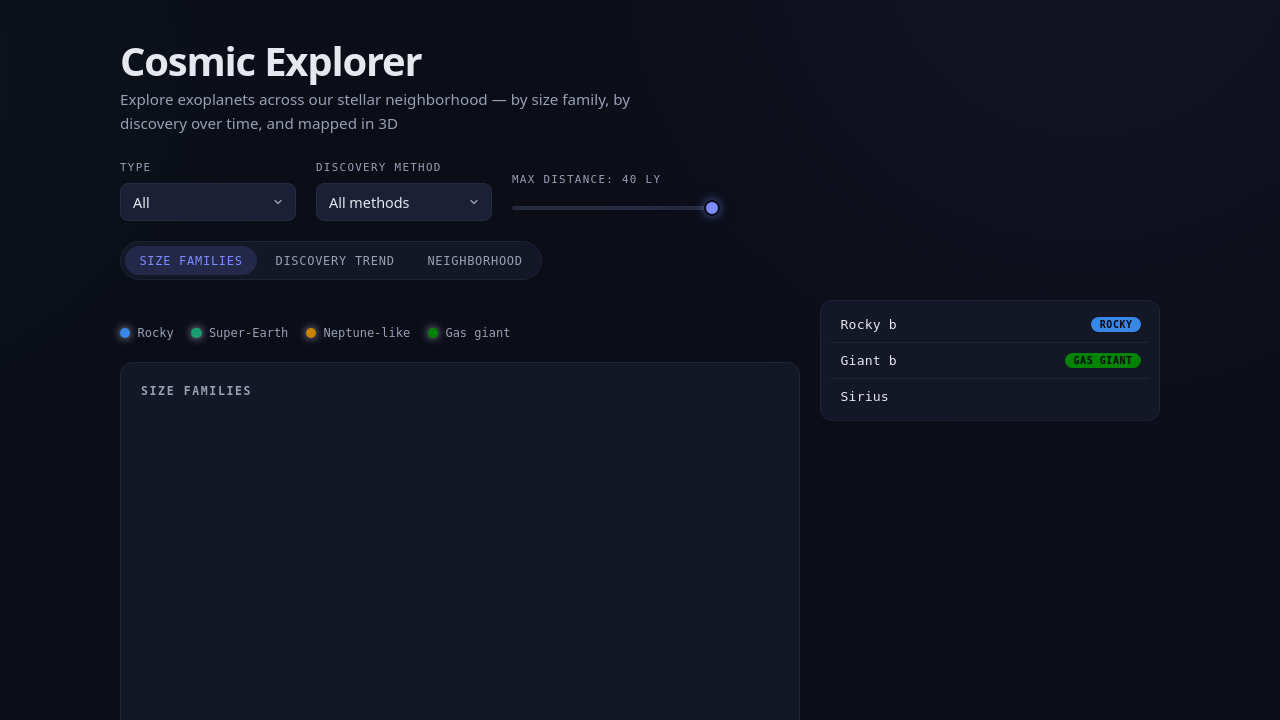
Test: App › switches from the size lens to the discovery-trend lens
Click the tab "Discovery trend" at x=335, y=260, box [261,246,409,275]
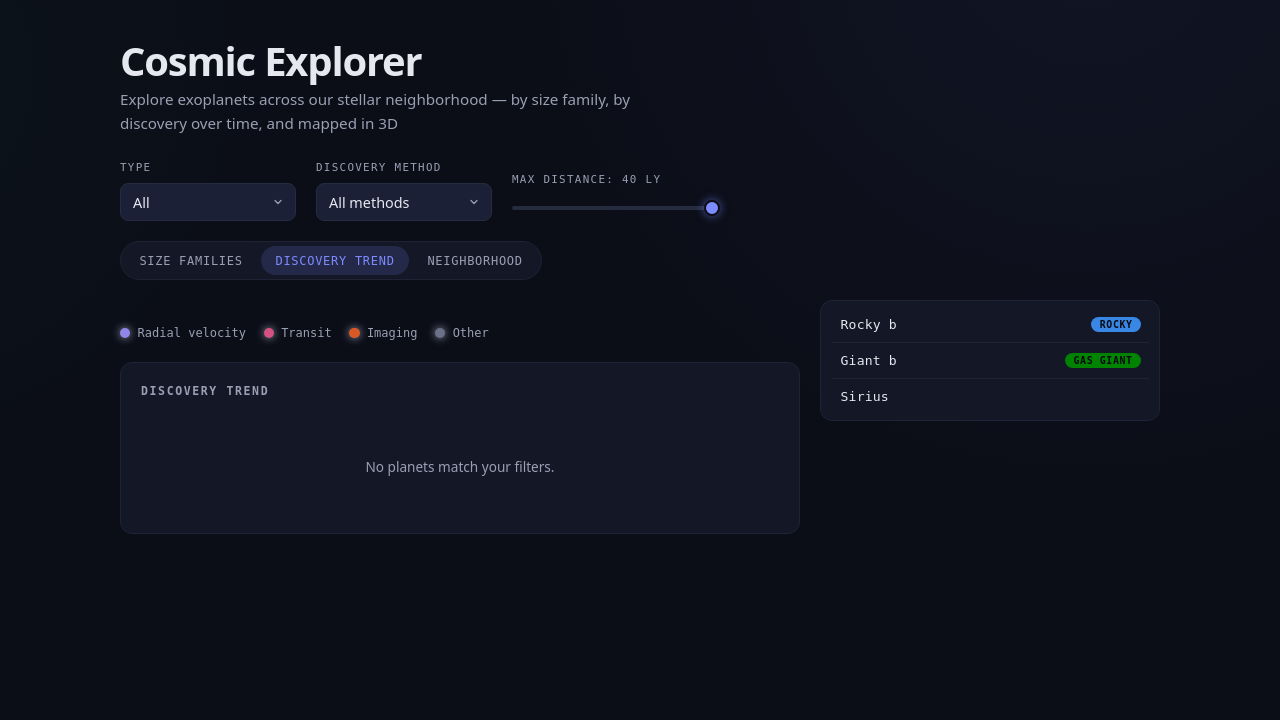
Now the heading "Discovery trend" is shown, box [141,384,269,398]
